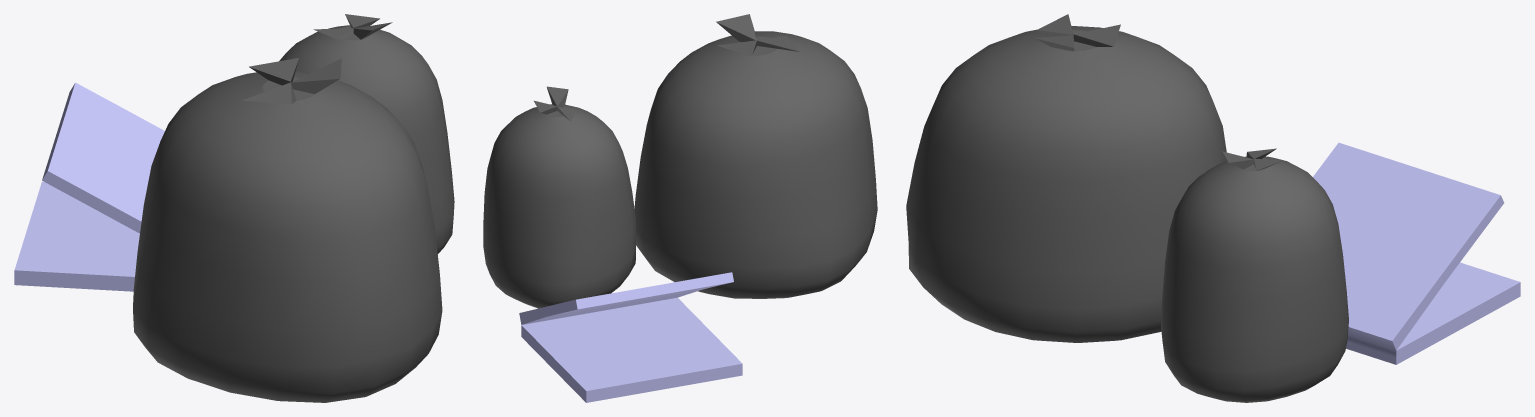
Rendered from trash.fbx.
The picture shows the model from 3 angles, left to right: view 1: azimuth 30°, elevation 25°; view 2: azimuth 150°, elevation 25°; view 3: azimuth 270°, elevation 25°; orthographic projection. The views are drawn at different scales.
Parts seen in each view (by area): view 1: Mesh_Trashbag, Mesh_Pizzabox, Mesh_Trashbag2; view 2: Mesh_Trashbag, Mesh_Trashbag2, Mesh_Pizzabox; view 3: Mesh_Trashbag, Mesh_Trashbag2, Mesh_Pizzabox.
Boxes of the visible parts, x1=… form: Mesh_Trashbag: x1=133, y1=58, x2=442, y2=402; Mesh_Pizzabox: x1=14, y1=82, x2=164, y2=291; Mesh_Trashbag2: x1=279, y1=14, x2=454, y2=254; Mesh_Trashbag: x1=634, y1=14, x2=877, y2=298; Mesh_Trashbag2: x1=483, y1=86, x2=635, y2=308; Mesh_Pizzabox: x1=519, y1=272, x2=742, y2=402; Mesh_Trashbag: x1=906, y1=14, x2=1227, y2=342; Mesh_Trashbag2: x1=1161, y1=148, x2=1348, y2=402; Mesh_Pizzabox: x1=1313, y1=142, x2=1520, y2=364.
Size of the model in its own units: 3.21 by 2.38 by 4.73.
